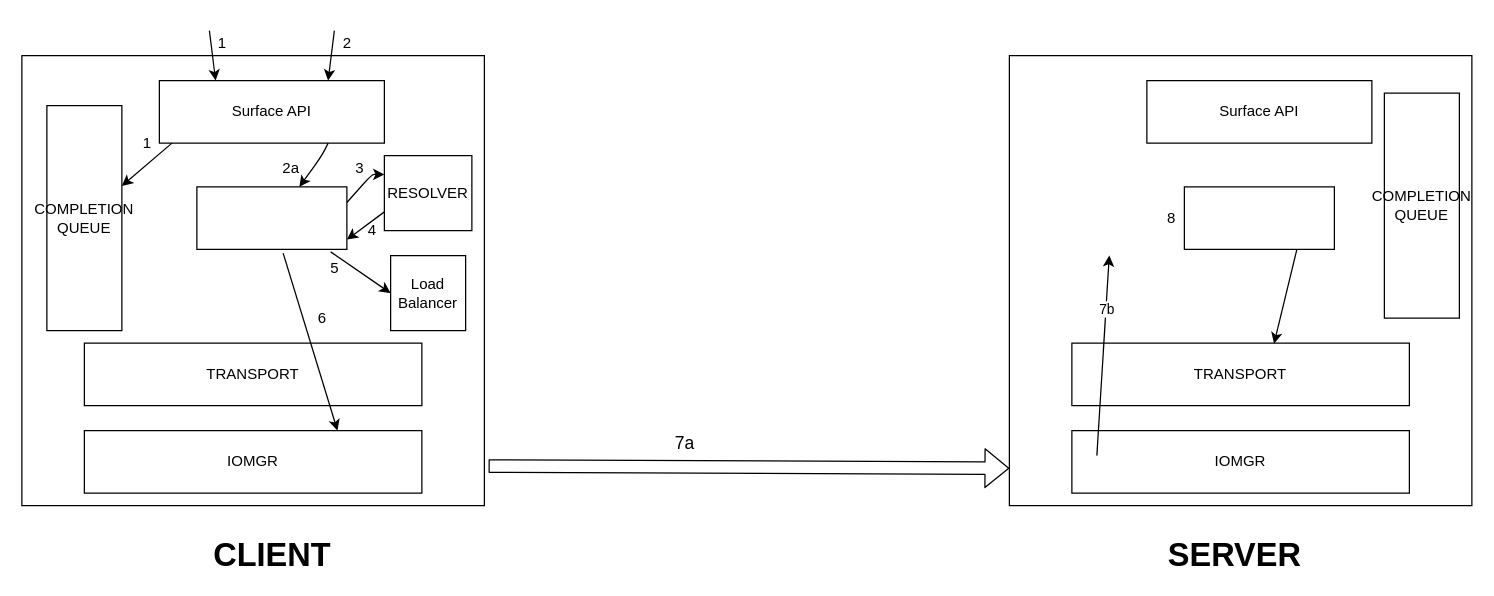
Image size: 1494x596. Some labels were removed from this diagram. The box of each missing label's shape, as (x1, y1, x2, y2) in pixels:
CHANNEL FILTERS: (196, 186, 347, 249)
FILTER STACK: (1183, 186, 1334, 249)
